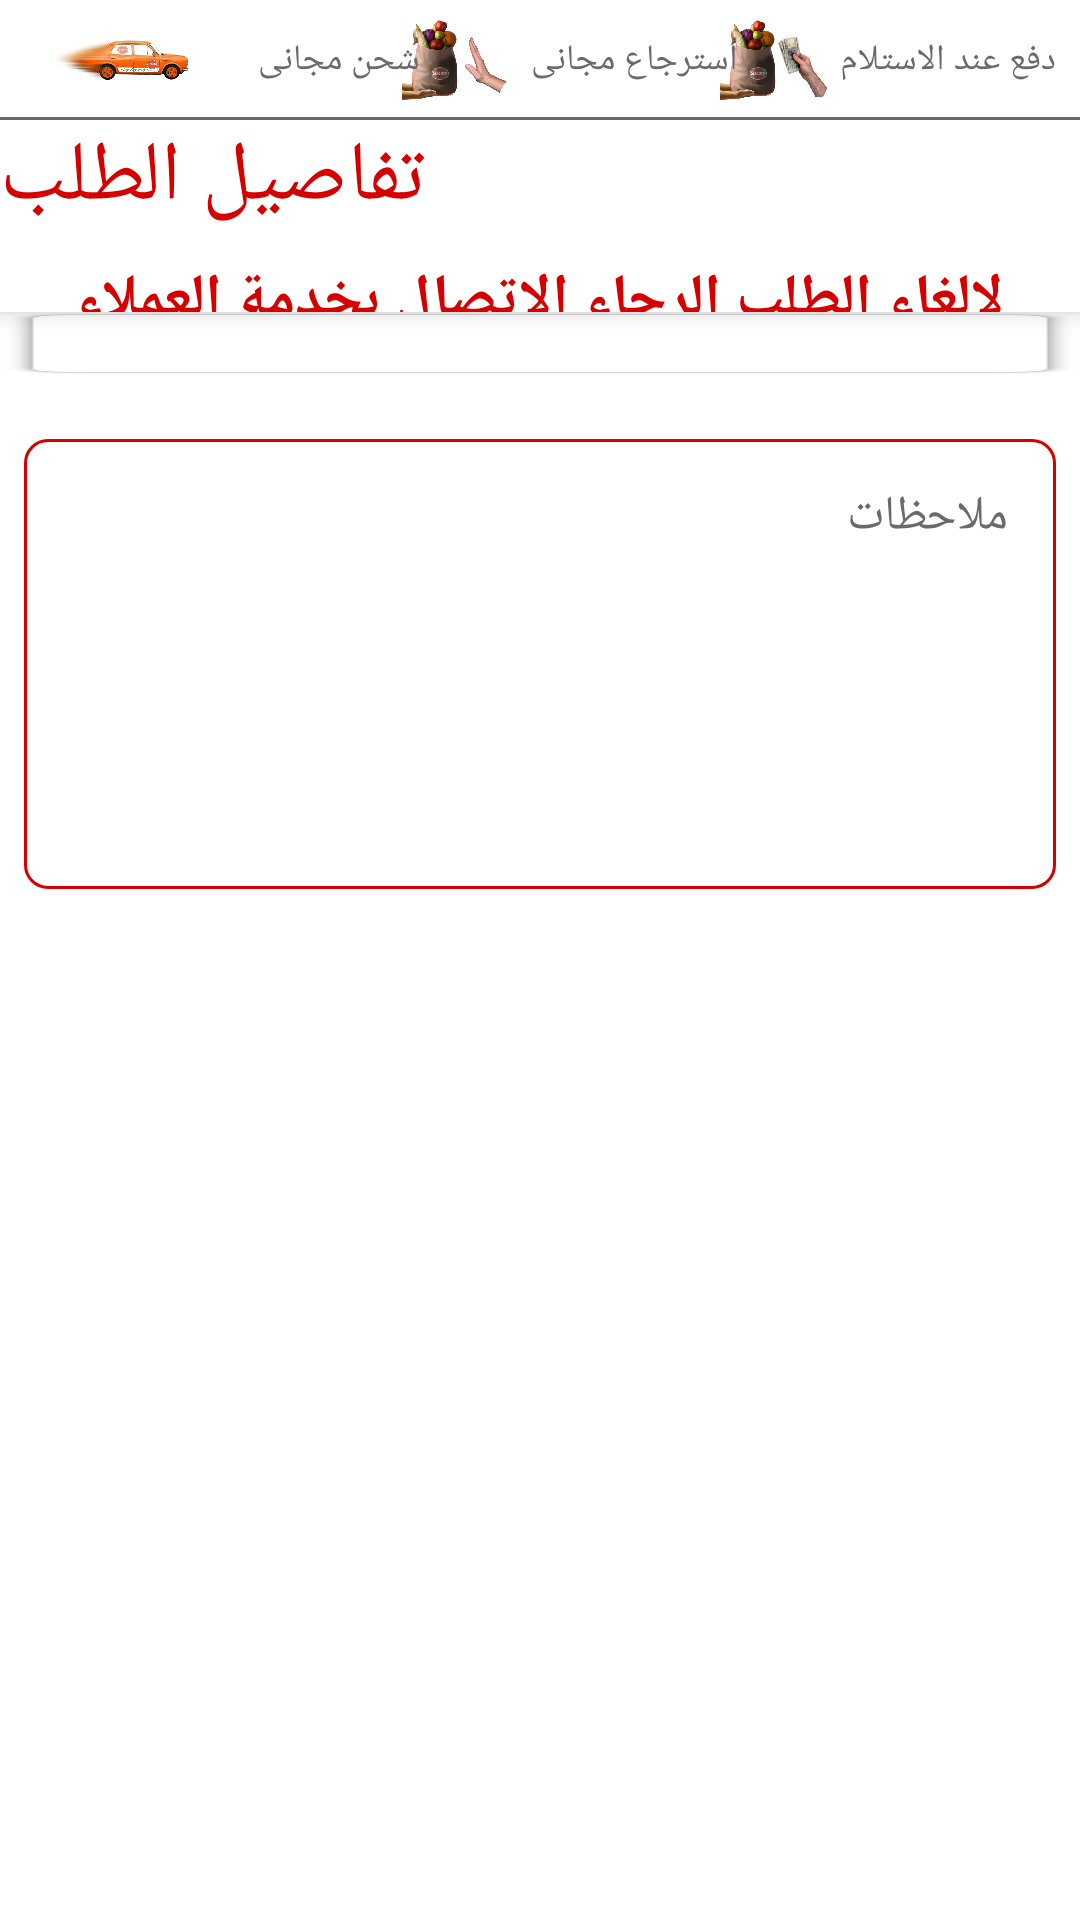

Point at icon controls on the screen. Image size 1080×1920, points as (x,y).
cash: (773,60)
